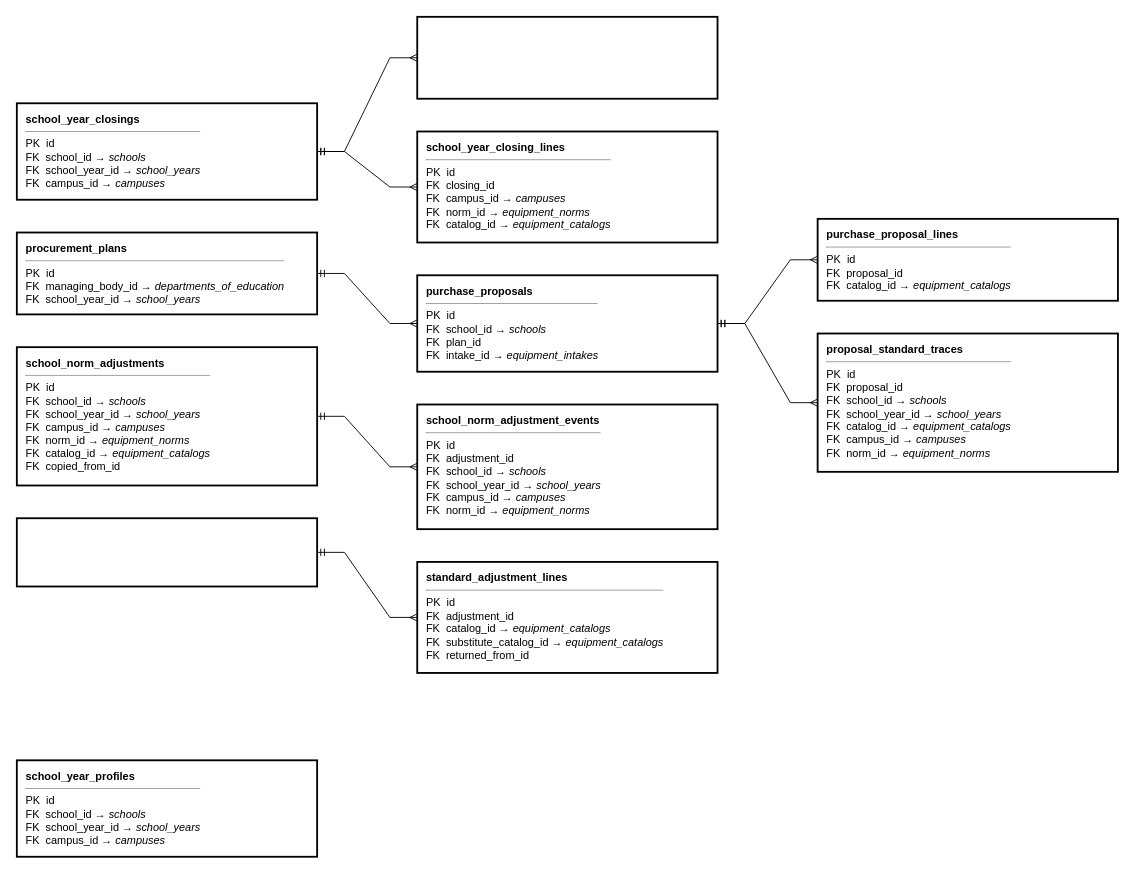
The diagram is 1134 pixels wide and 873 high, and some of its shapes have lost their labels. The box of each missing label's shape, as (x1, y1, x2, y2) in pixels:
school_year_closing_inputs PK id FK closing_id FK campus_id → campuses: (416, 15, 718, 99)
standard_adjustments PK id FK school_id → schools: (15, 517, 318, 587)
